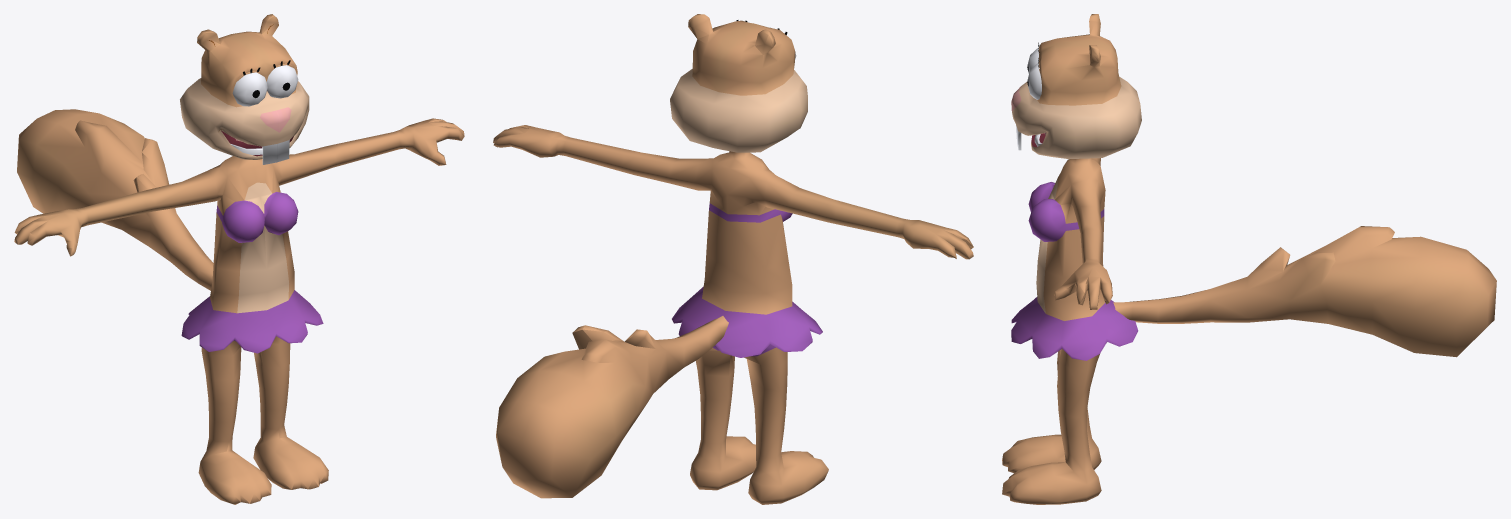
The model's file is sandy.glb.
The picture shows the model from 3 angles, left to right: view 1: azimuth 30°, elevation 25°; view 2: azimuth 150°, elevation 25°; view 3: azimuth 270°, elevation 25°; orthographic projection. The views are drawn at different scales.
Visible parts, largest first — view 1: Object_2; view 2: Object_2; view 3: Object_2.
Part boxes in pixels (bbox=[...]): Object_2: bbox=[14, 14, 464, 504]; Object_2: bbox=[493, 14, 973, 504]; Object_2: bbox=[1002, 14, 1496, 504].
Bounding box in the file's own units: 10.86 × 10.28 × 10.24.
1 material, 1 textured.
